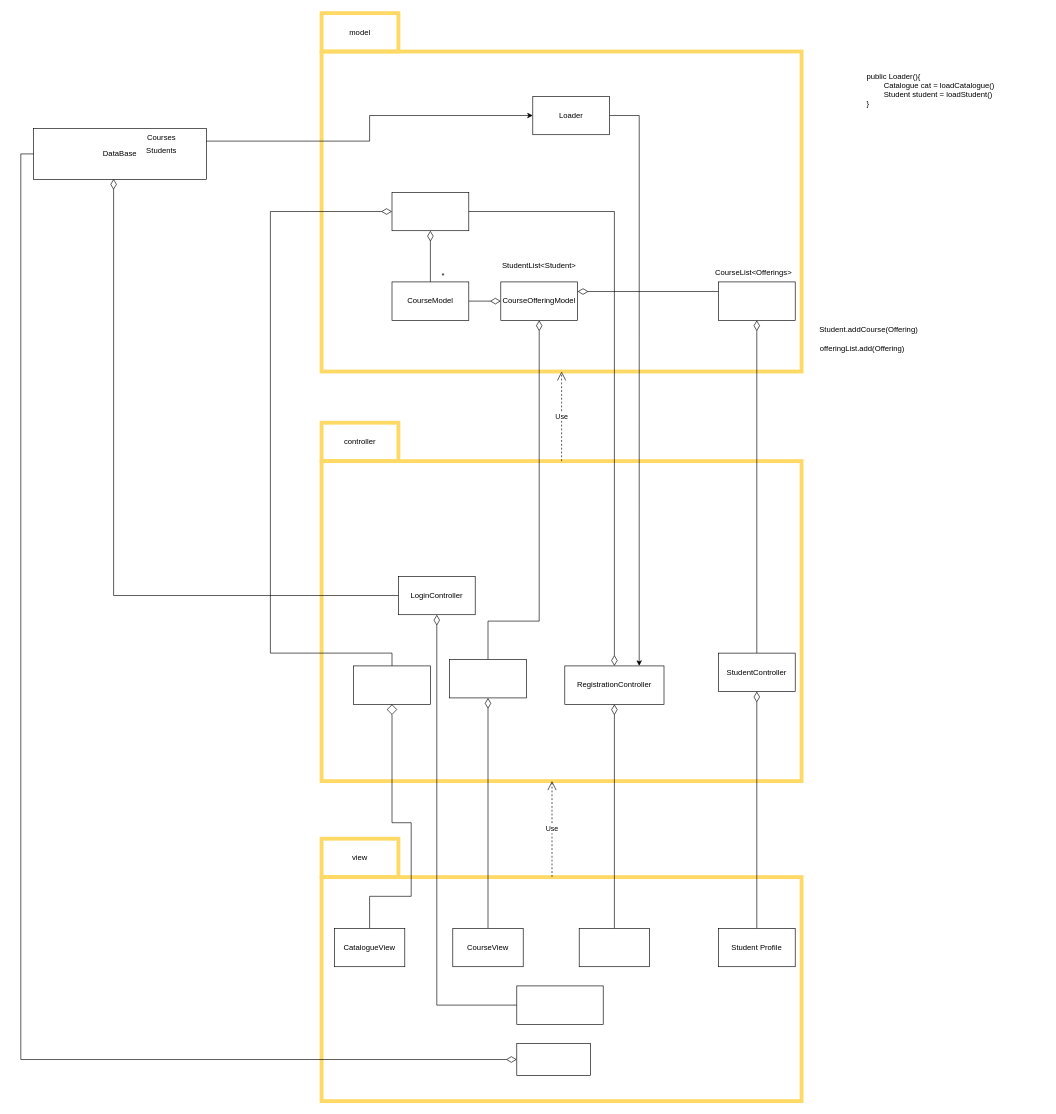
Some shapes in this 1056 by 1114 pixel diagram are drawn without their labels. The centre of each missing label's shape, as x and y in pixels:
App: the point at 553,1059
CatalogueController: the point at 391,684
CatalogueModel: the point at 430,211
CourseController: the point at 487,678
LoginView: the point at 559,1004
RegistrationView: the point at 614,947
StudentModel: the point at 756,300
